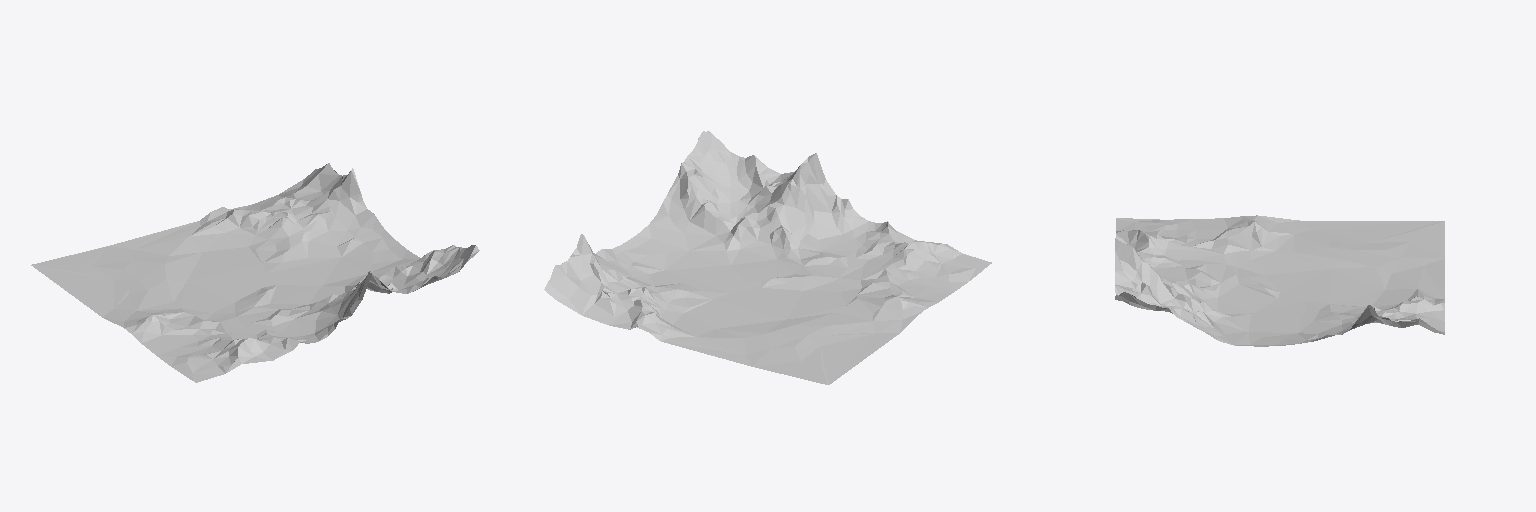
The model's file is FreeWestLandscapeLP.obj.
3 views of the same model, side by side, from view 1: azimuth 30°, elevation 25°; view 2: azimuth 150°, elevation 25°; view 3: azimuth 270°, elevation 25° (orthographic).
Visible parts, largest first — view 1: Plane_Plane.001; view 2: Plane_Plane.001; view 3: Plane_Plane.001.
Boxes of the visible parts, box(x1,y1,x2,y2) form: Plane_Plane.001: box(31, 163, 479, 382); Plane_Plane.001: box(544, 131, 991, 384); Plane_Plane.001: box(1115, 215, 1444, 346).
Size of the model in its own units: 401 by 92.58 by 401.